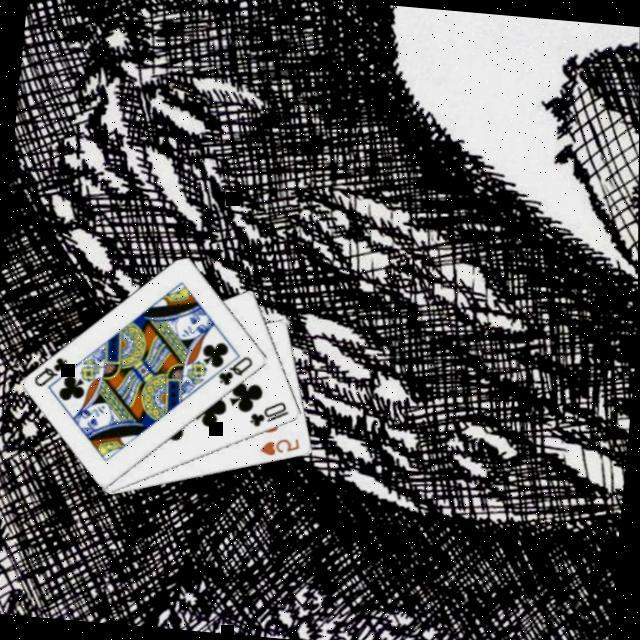10C: (245, 398, 292, 433)
5H: (256, 433, 302, 463)
QC: (213, 352, 255, 392), (30, 353, 72, 393)
